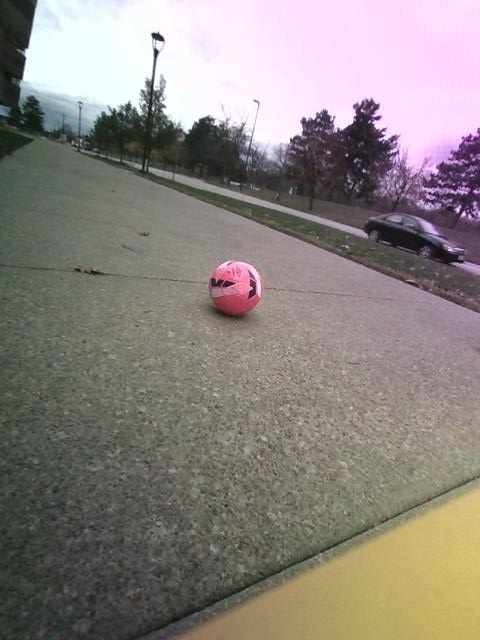ball: (209, 260, 261, 314)
